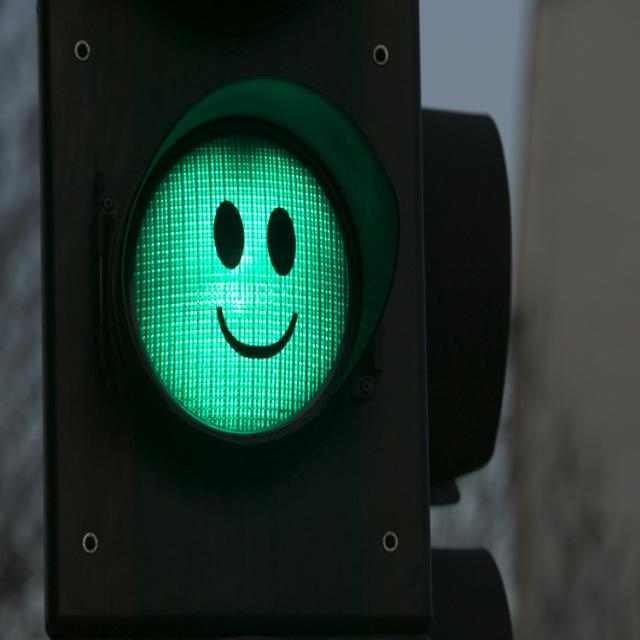green: (108, 113, 365, 447)
